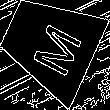M_NW: (20, 12, 81, 76)
